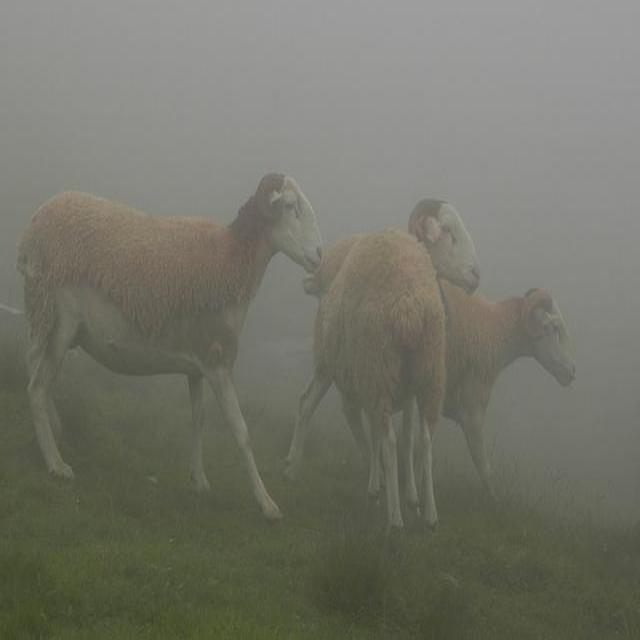Sheep: (17, 174, 323, 523), (286, 238, 579, 510), (322, 200, 486, 546)
